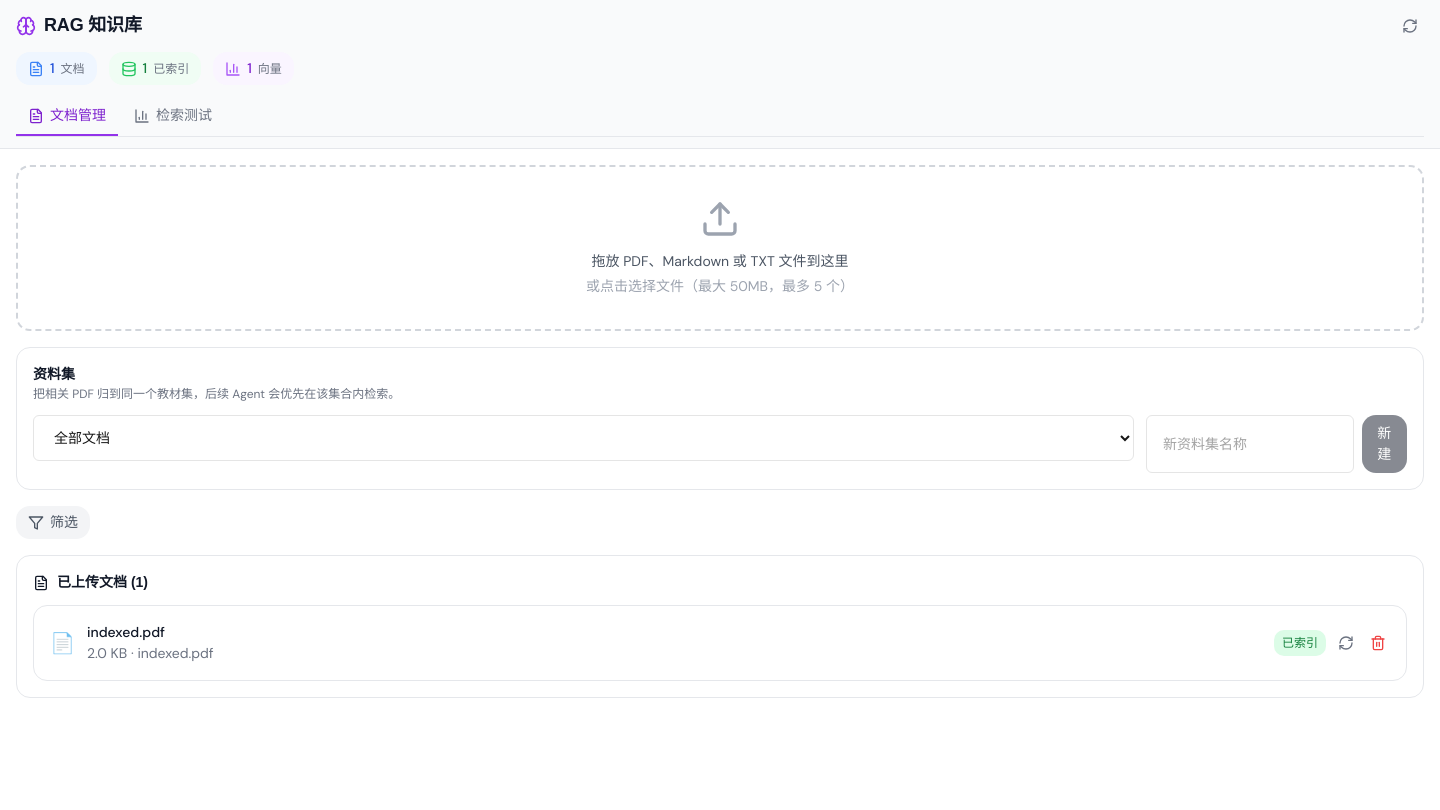
RagSection detail add-to-corpus action updates corpus membership
Select "热力学教材 (0)" in the dropdown at (584, 438), box [33,415,1134,461]
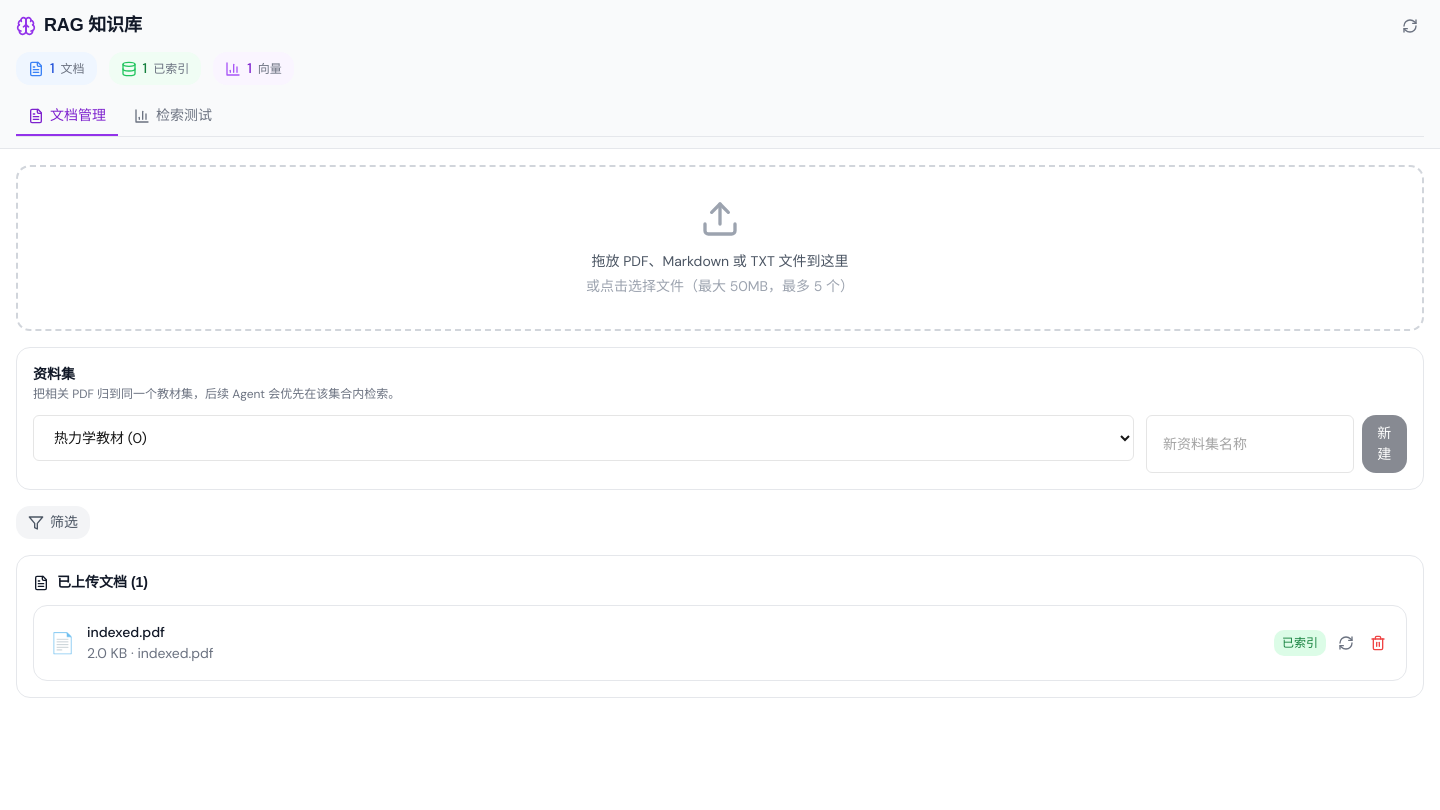
Click the text "indexed.pdf" at (126, 632), box [87,623,165,641]
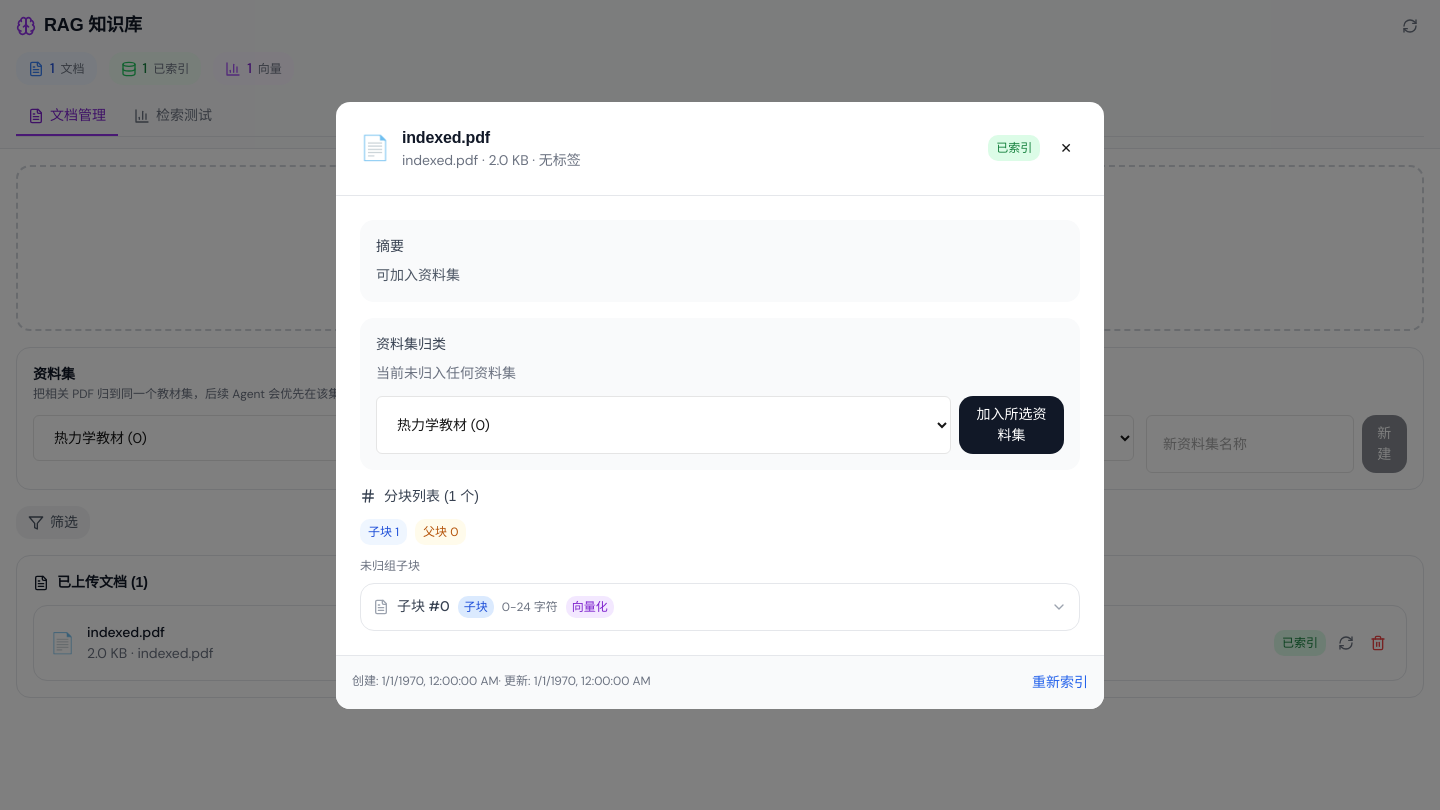
Now the button "加入所选资料集" is shown
Click the button "加入所选资料集" at (1011, 424), box [959,396,1064,454]
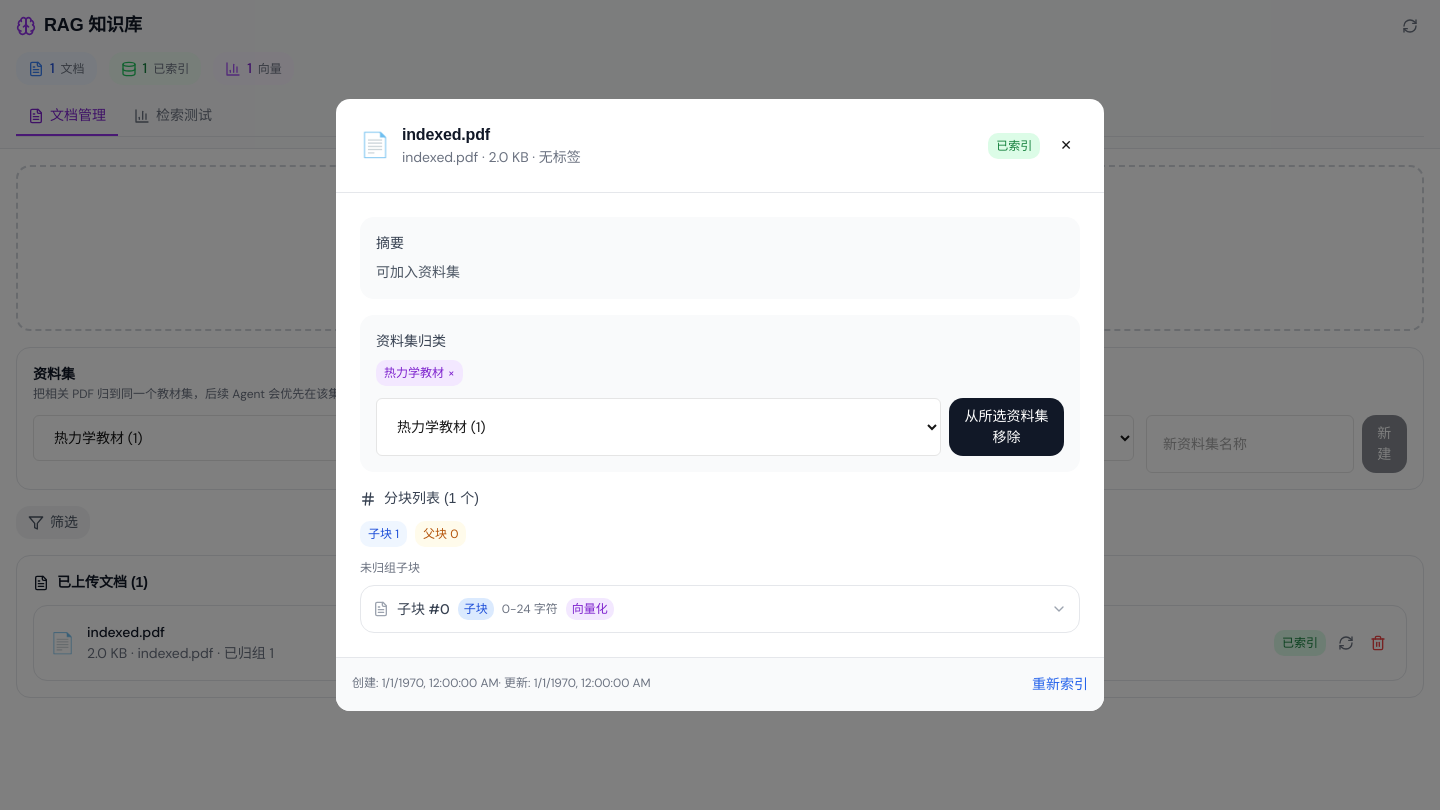
Now the text "热力学教材" is shown, box [384,364,444,382]
Now the button "从所选资料集移除" is shown
Click the button "从所选资料集移除" at (1007, 427), box [949,398,1064,456]
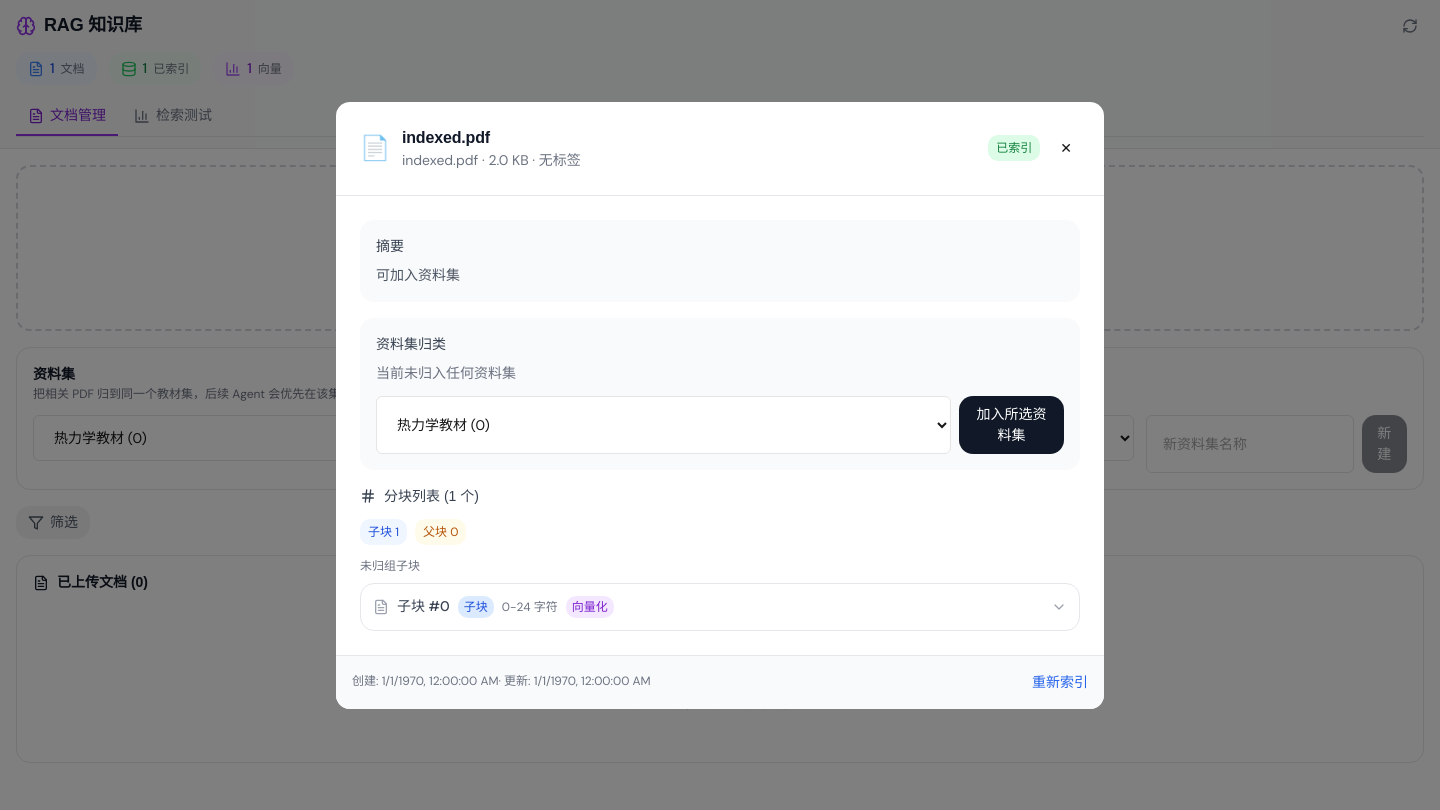
Now the text "当前未归入任何资料集" is shown, box [376,364,516,382]
Now the button "加入所选资料集" is shown, box [959,396,1064,454]
